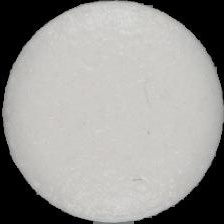55289-301: (0, 0, 224, 224)
